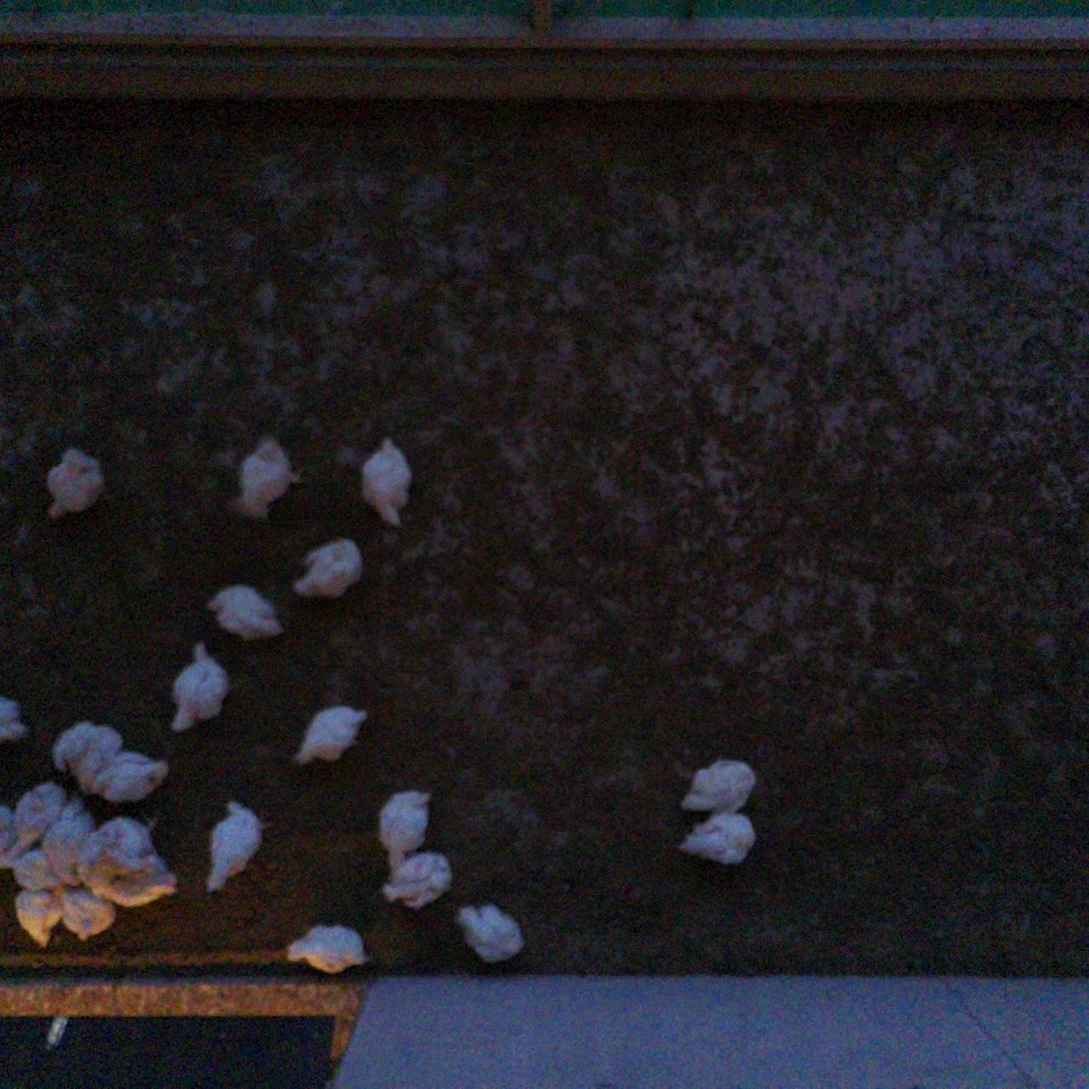chicken: (198, 795, 279, 903), (232, 431, 313, 521), (165, 637, 236, 737), (357, 432, 417, 532), (284, 701, 372, 769), (48, 717, 123, 796), (41, 444, 111, 525), (39, 793, 99, 886), (288, 533, 366, 603), (204, 579, 287, 644), (451, 897, 532, 963), (676, 803, 758, 867), (278, 919, 368, 976), (676, 753, 756, 817), (376, 849, 456, 913), (373, 785, 432, 869), (80, 810, 164, 869), (90, 747, 174, 805), (82, 867, 179, 911), (12, 780, 66, 850), (10, 885, 63, 952), (59, 886, 118, 946), (11, 851, 61, 888)
